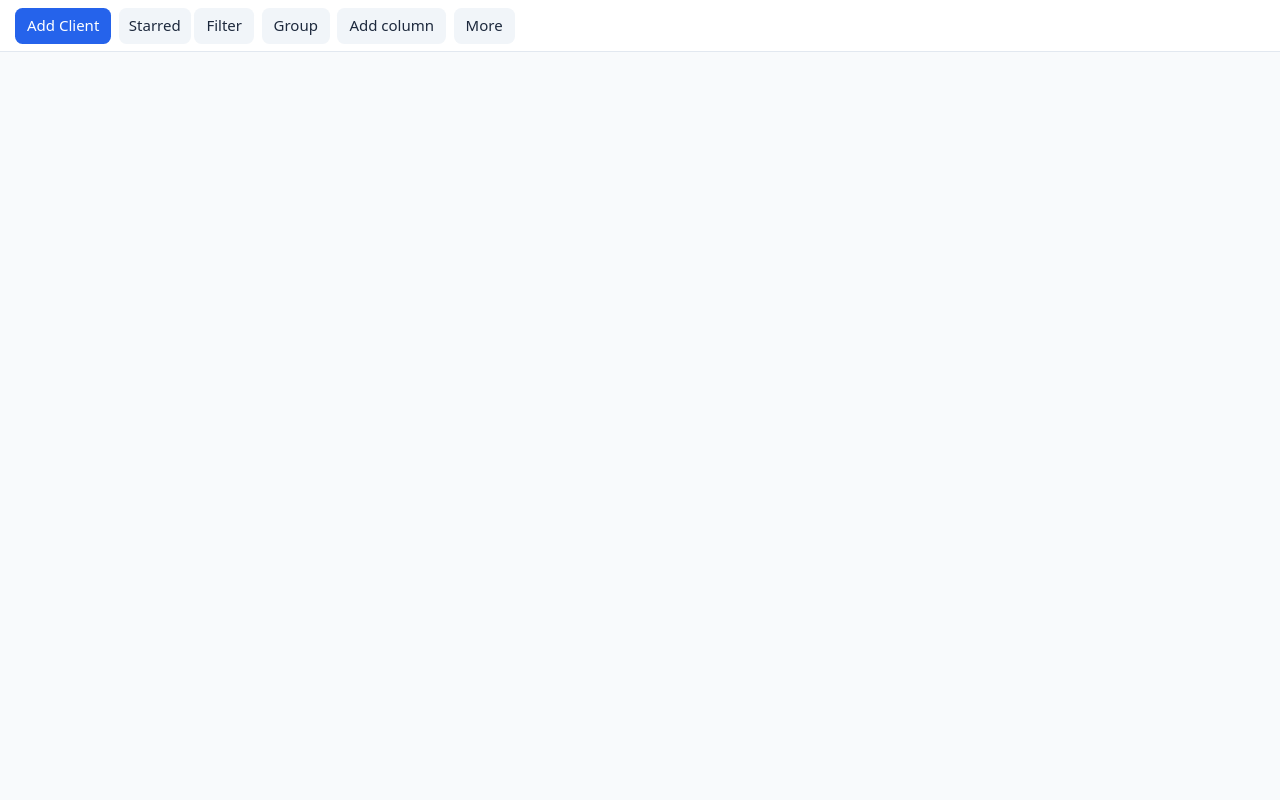
Test: GridToolbar › Add a column… opens the add column form
Click the button "Add column": point(392, 26) 337,8 -> 446,44
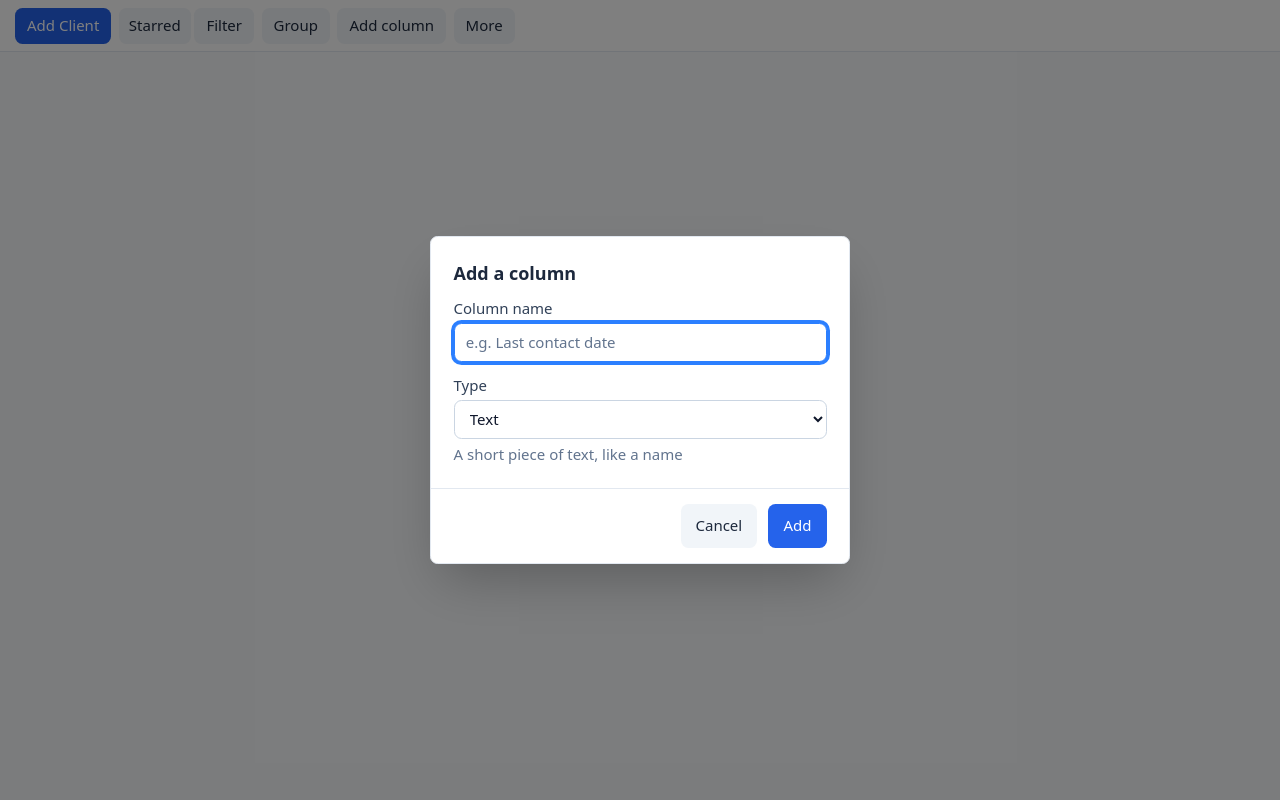
Now the field labelled "Column name" is shown, box 454,323 -> 826,362
Now the dropdown labelled "Type" is shown, box 454,400 -> 826,439
